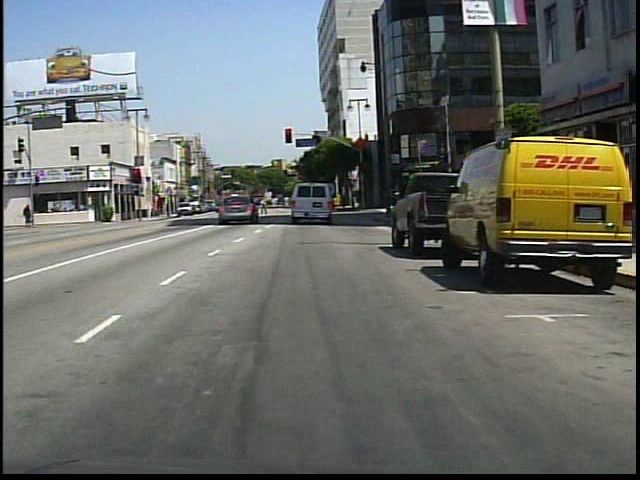person: (287, 191, 304, 222), (258, 193, 272, 219), (23, 202, 33, 227)
